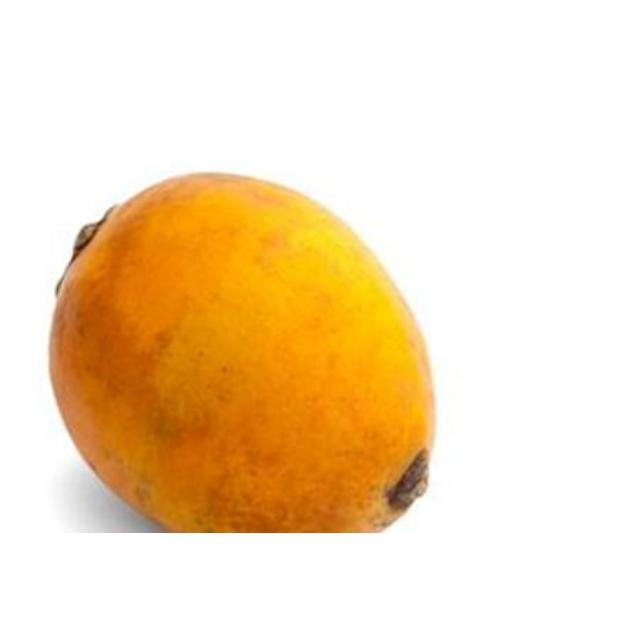good: (47, 172, 438, 532)
